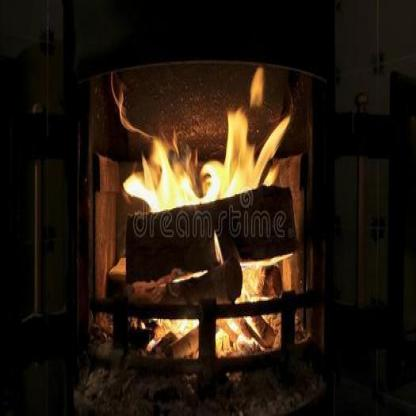fire: (112, 46, 299, 354)
